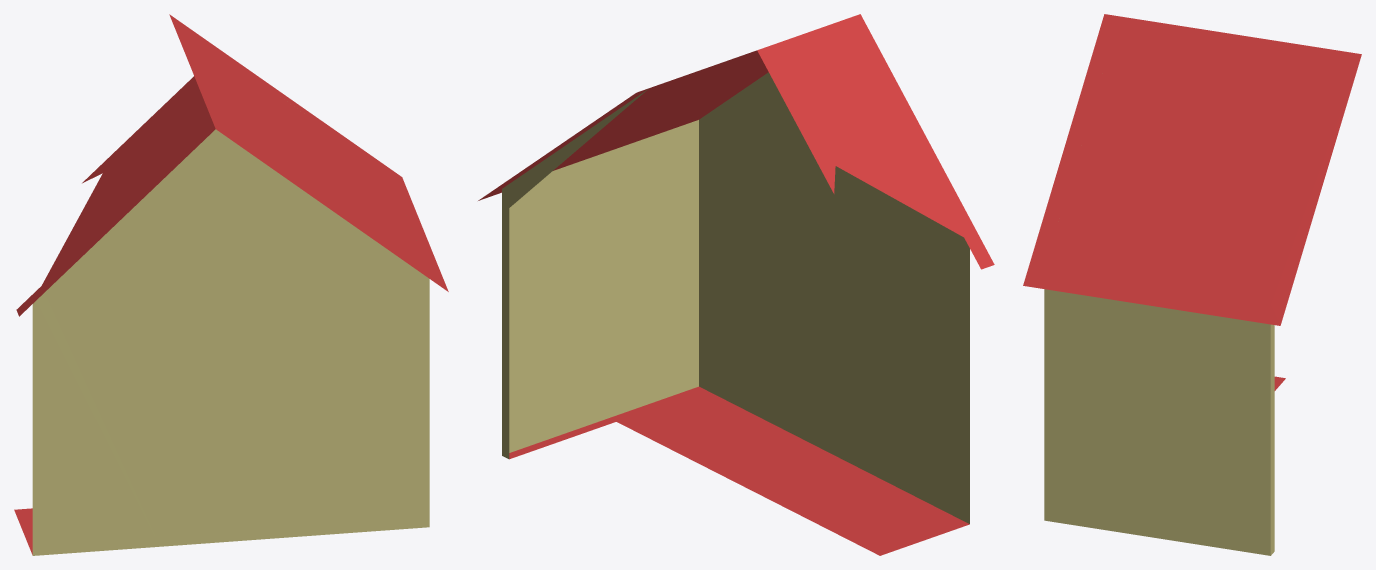
The picture shows the model from 3 angles, left to right: view 1: azimuth 30°, elevation 25°; view 2: azimuth 150°, elevation 25°; view 3: azimuth 270°, elevation 25°; orthographic projection. The views are drawn at different scales.
Size of the model in its own units: 15.17 by 10.26 by 13.95.
